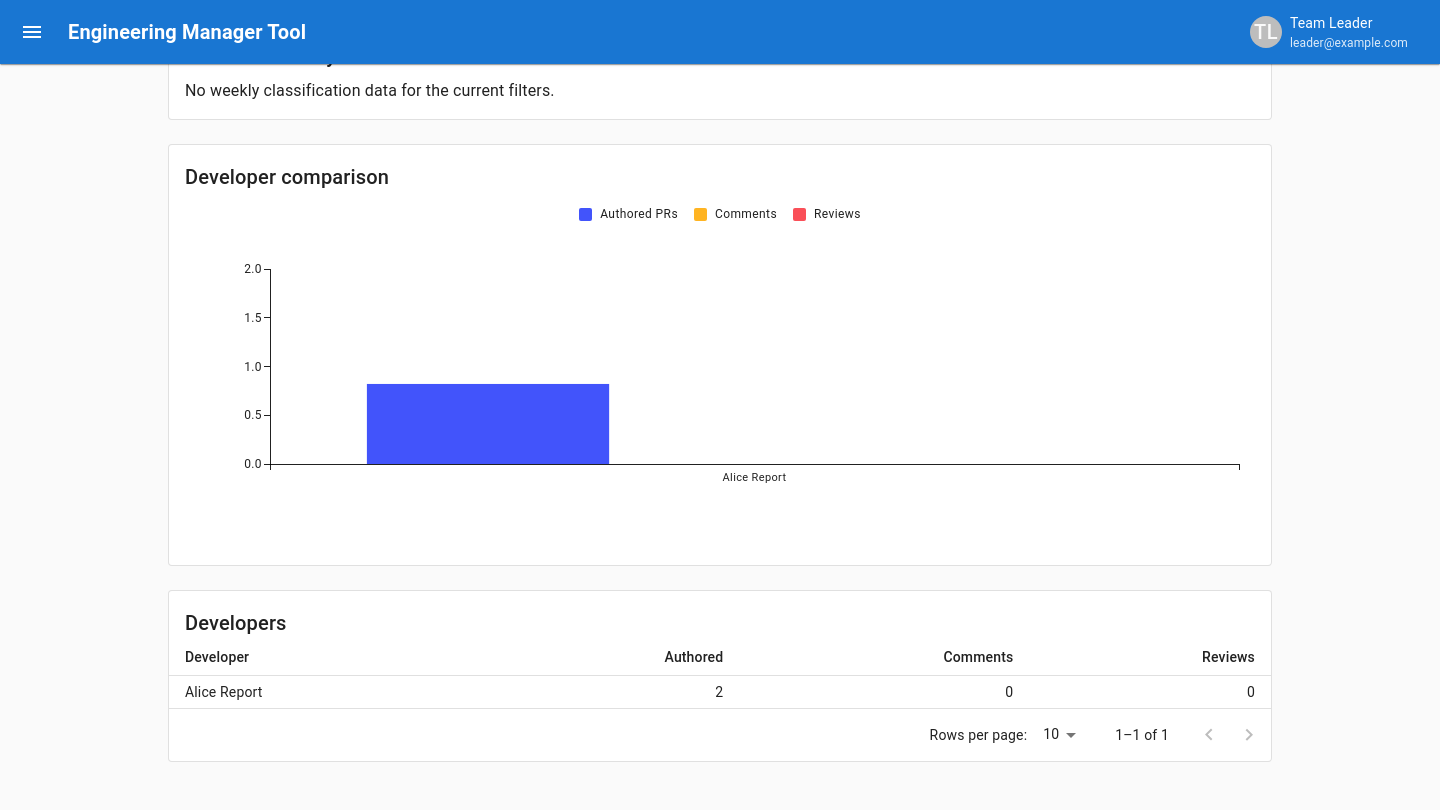
US4 detail table and drill-down › opens drill-down modal from table row and closes without losing filters
The width and height of the screenshot is (1440, 810).
(page scrolled)
Expected: the element with test id "pr-performance-developers-table" is shown, [168,590,1272,762]
Click the row with test id "pr-performance-developer-row-report-1": (720, 692) [169,675,1271,708]
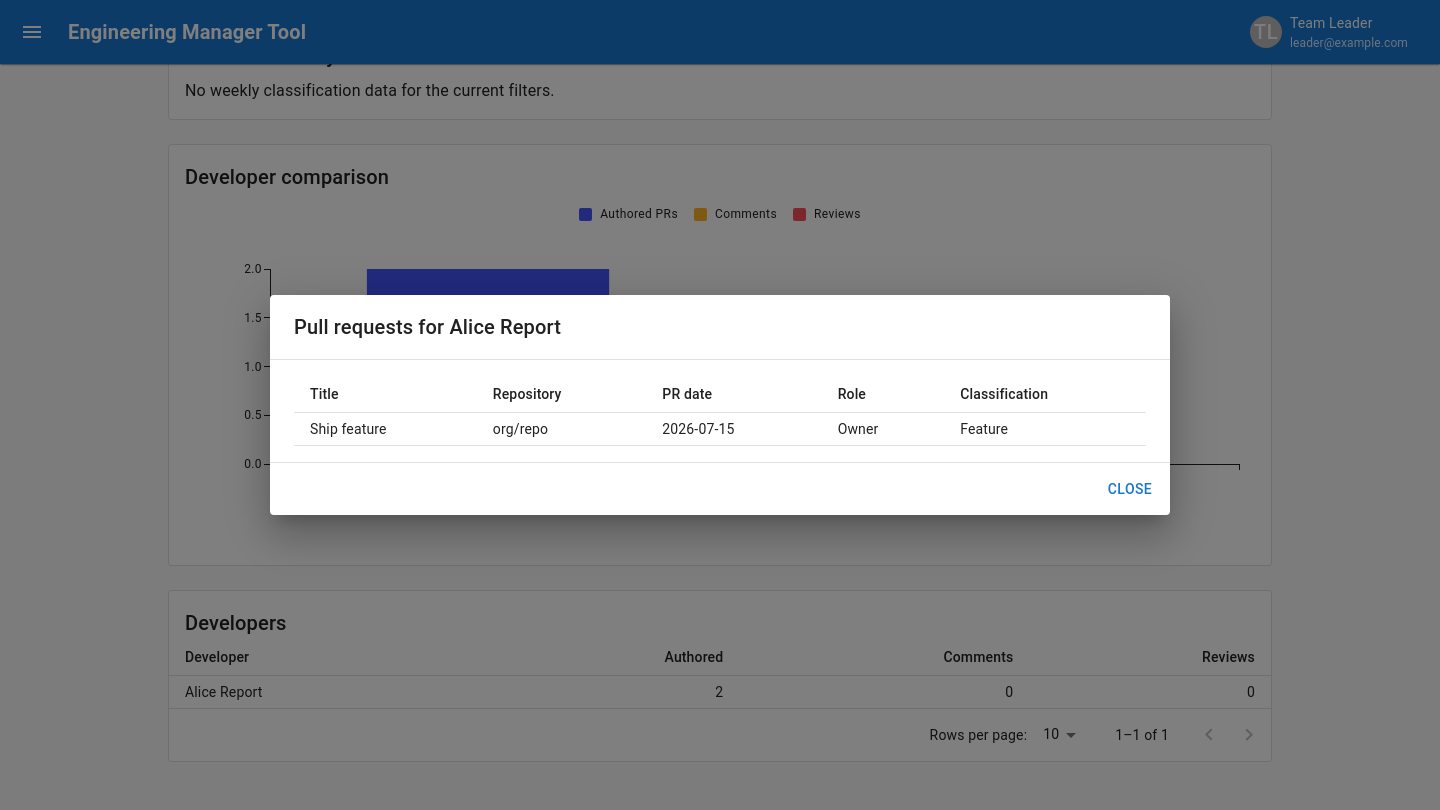
Now the element with test id "pr-performance-drilldown-modal" is shown
Now the text "Ship feature" is shown, box [294,412,477,445]
Click the button with test id "pr-performance-drilldown-close": (1130, 489) [1098,471,1162,507]
(page scrolled)
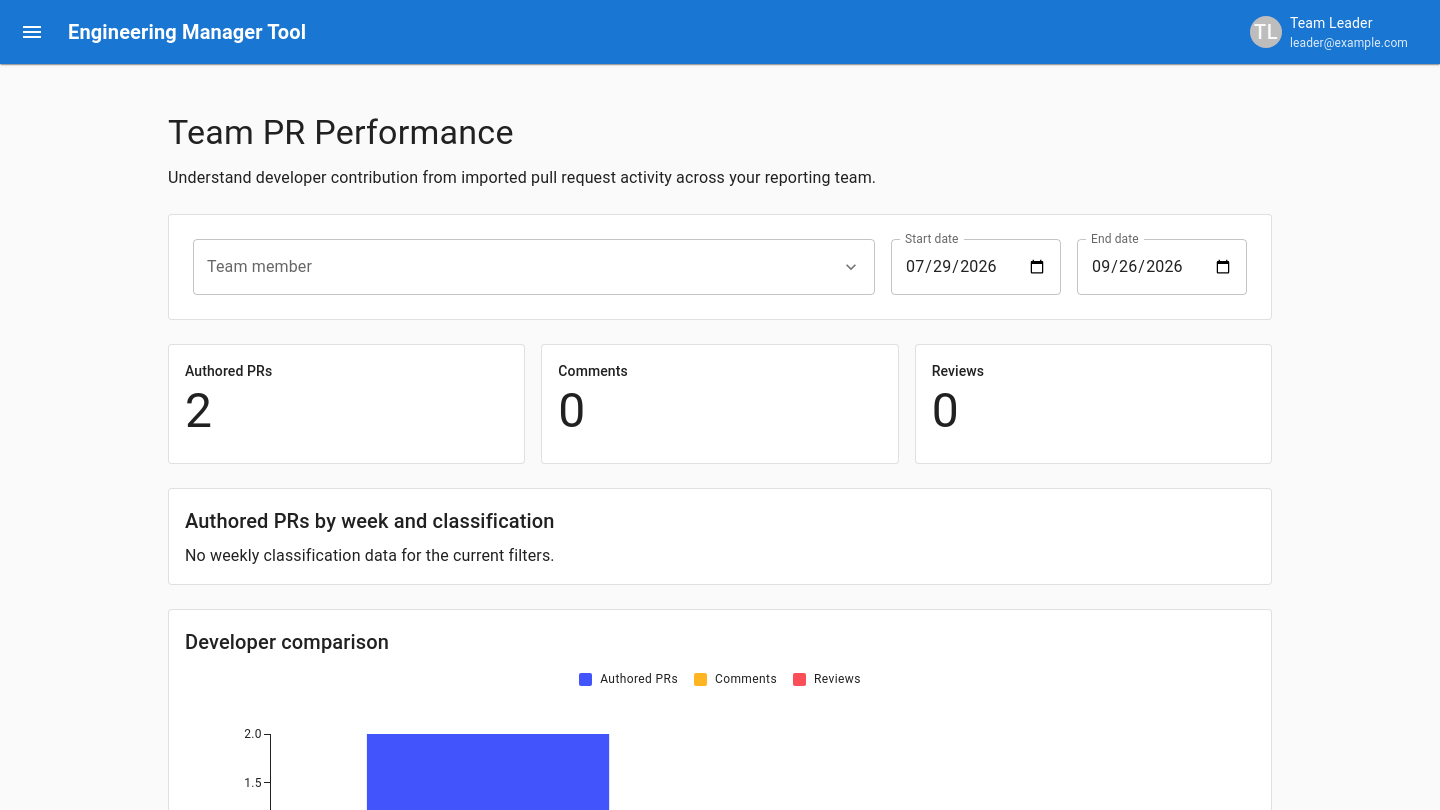
Now the element with test id "pr-performance-drilldown-modal" is gone
